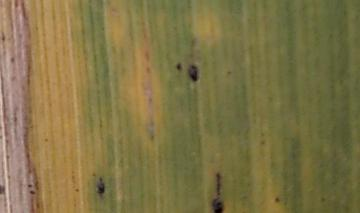tarspot: (210, 170, 225, 213), (186, 63, 199, 83), (95, 175, 106, 195), (175, 60, 184, 72), (272, 195, 282, 203), (27, 189, 37, 197), (1, 183, 8, 194), (224, 70, 233, 78), (318, 196, 326, 203), (8, 55, 15, 63), (26, 182, 34, 188)
